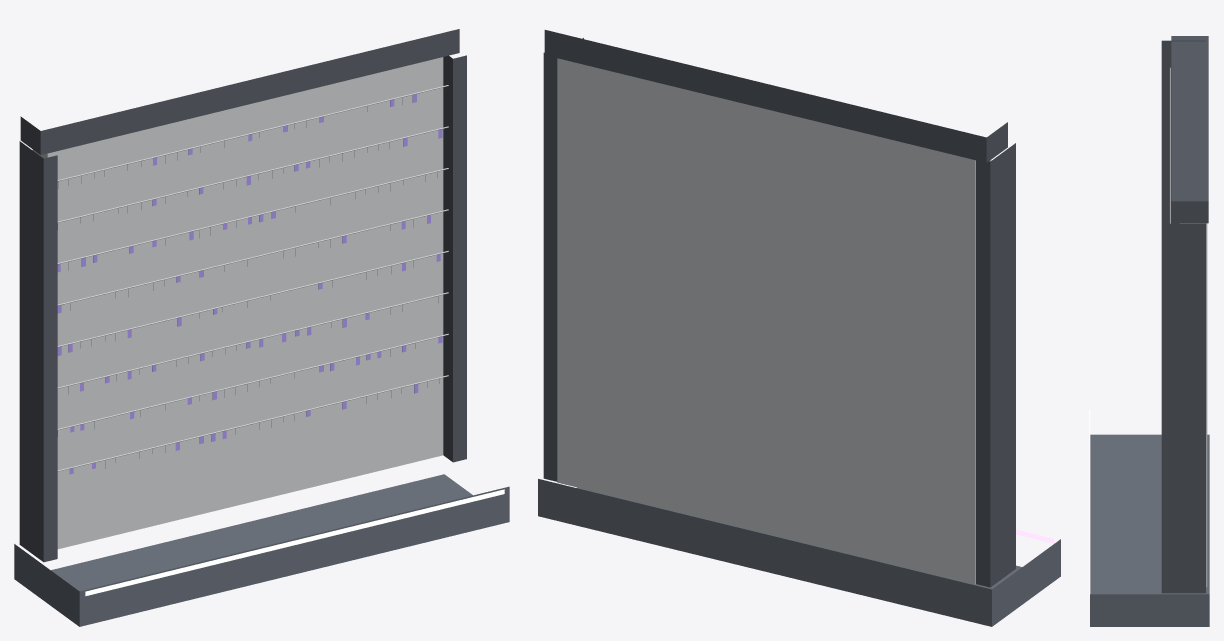
Rendered from ext_memorial_monument_01.glb.
3 renders of one model, left to right at view 1: azimuth 30°, elevation 25°; view 2: azimuth 150°, elevation 25°; view 3: azimuth 270°, elevation 25°, orthographic. The views are drawn at different scales.
Parts seen in each view (by area): view 1: Stele, Plinth, Side_Fins, Lintel, Tags_Ti, Tag_Rails, Tags_Violet, Violet_Plinth_Seam; view 2: Stele, Side_Fins, Plinth, Lintel; view 3: Side_Fins, Plinth, Lintel, Stele, Violet_Plinth_Seam, Tag_Rails.
Part boxes in pixels (left/top/right/bottom): Stele: left=32, top=57, right=443, bottom=549; Plinth: left=14, top=474, right=509, bottom=626; Side_Fins: left=19, top=55, right=466, bottom=562; Lintel: left=20, top=29, right=459, bottom=154; Tags_Ti: left=57, top=88, right=443, bottom=478; Tag_Rails: left=57, top=85, right=448, bottom=471; Tags_Violet: left=57, top=94, right=442, bottom=474; Violet_Plinth_Seam: left=85, top=489, right=504, bottom=596; Stele: left=557, top=58, right=991, bottom=584; Side_Fins: left=543, top=38, right=1015, bottom=587; Plinth: left=538, top=479, right=1060, bottom=626; Lintel: left=544, top=30, right=1007, bottom=162; Side_Fins: left=1161, top=40, right=1205, bottom=593; Plinth: left=1090, top=434, right=1209, bottom=626; Lintel: left=1171, top=36, right=1208, bottom=223; Stele: left=1180, top=223, right=1207, bottom=587; Violet_Plinth_Seam: left=1089, top=410, right=1090, bottom=597; Tag_Rails: left=1169, top=67, right=1170, bottom=223.
Bounding box in the file's own units: 3.8 × 3.9 × 1.01.
